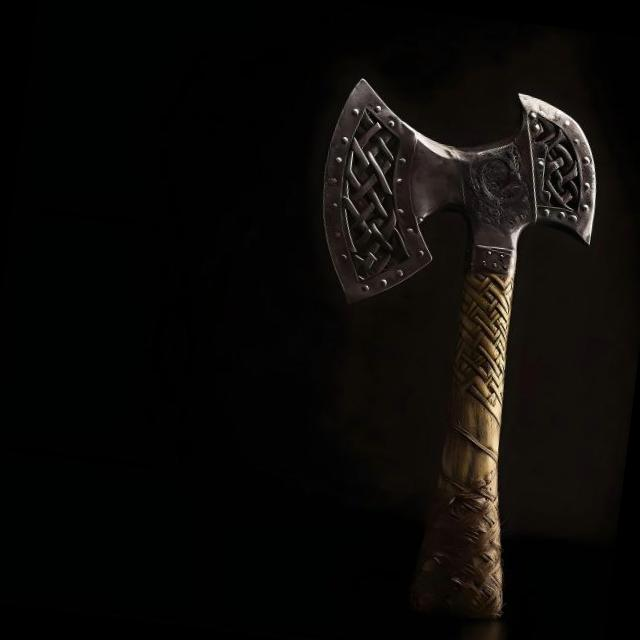Axe: (324, 80, 596, 617)
